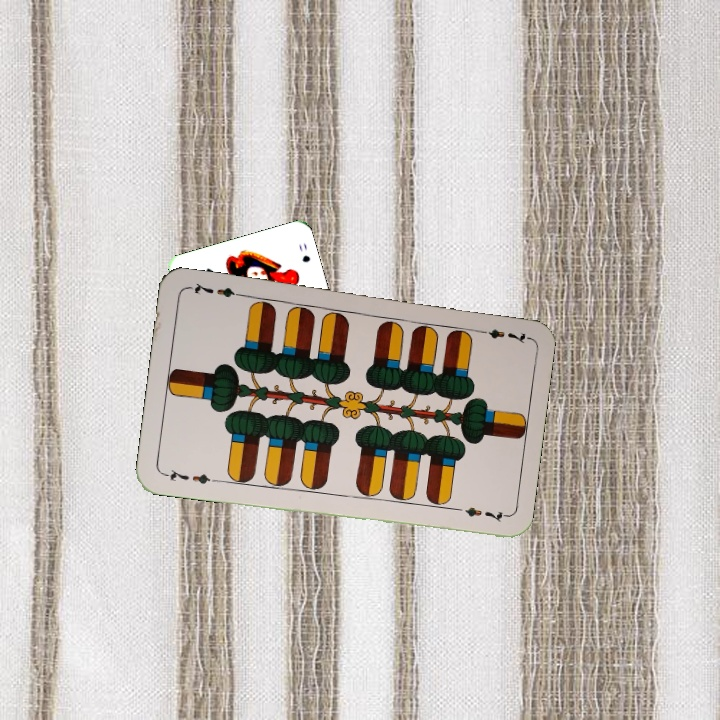E7: (160, 465, 219, 487), (471, 324, 530, 346)
